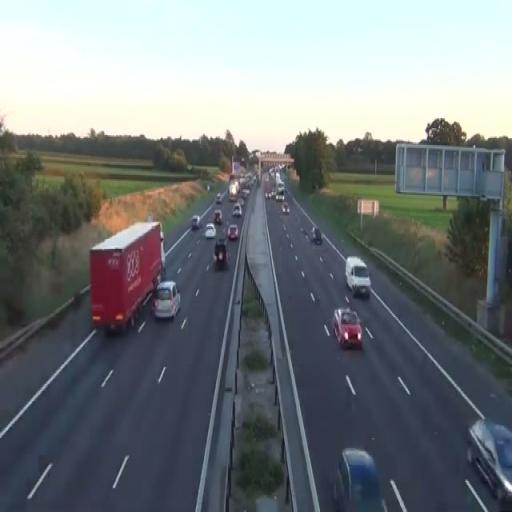Car: (466, 418, 512, 504), (332, 448, 387, 512), (333, 307, 362, 350), (153, 280, 181, 322), (213, 240, 230, 268), (227, 225, 239, 240), (205, 223, 216, 239), (191, 214, 201, 230), (213, 210, 223, 225), (232, 204, 242, 218)
Truck: (88, 220, 166, 335), (345, 256, 371, 299)
